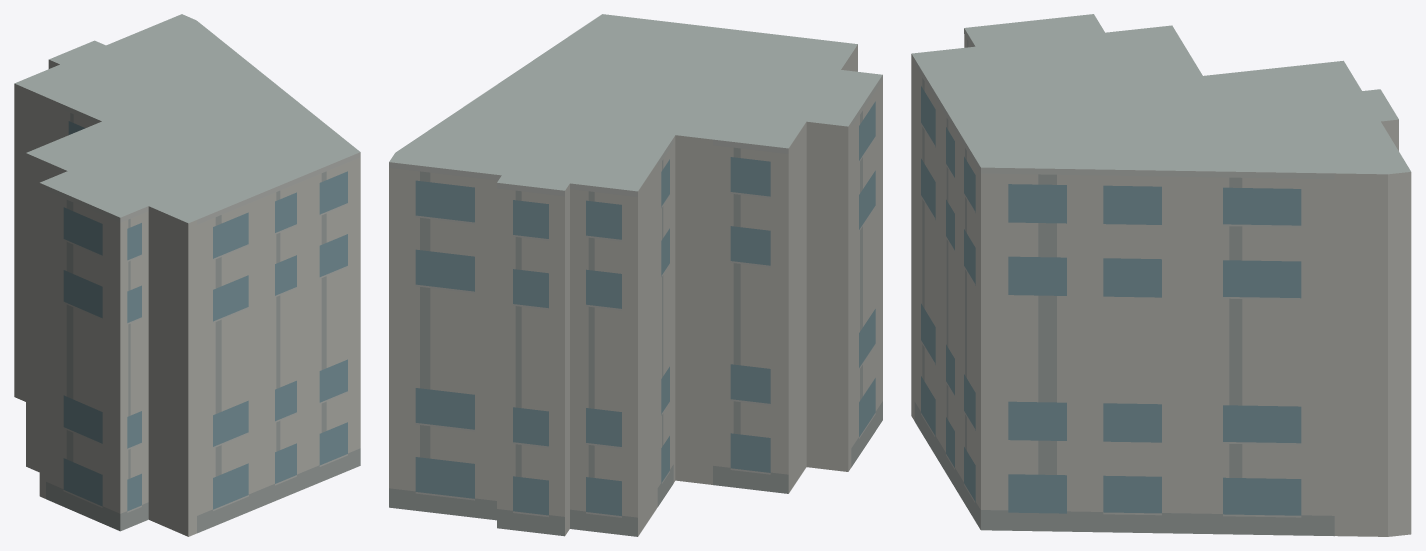
File: survey-upis-32570159.glb
The picture shows the model from 3 angles, left to right: view 1: azimuth 30°, elevation 25°; view 2: azimuth 150°, elevation 25°; view 3: azimuth 270°, elevation 25°; orthographic projection. The views are drawn at different scales.
Parts seen in each view (by area): view 1: survey-upis-32570159.tmp; view 2: survey-upis-32570159.tmp; view 3: survey-upis-32570159.tmp.
Part boxes in pixels (<box>): survey-upis-32570159.tmp: <box>14,14,360,536</box>; survey-upis-32570159.tmp: <box>389,14,882,536</box>; survey-upis-32570159.tmp: <box>911,14,1411,536</box>.
Bounding box in the file's own units: 14.13 × 14.9 × 18.62.
